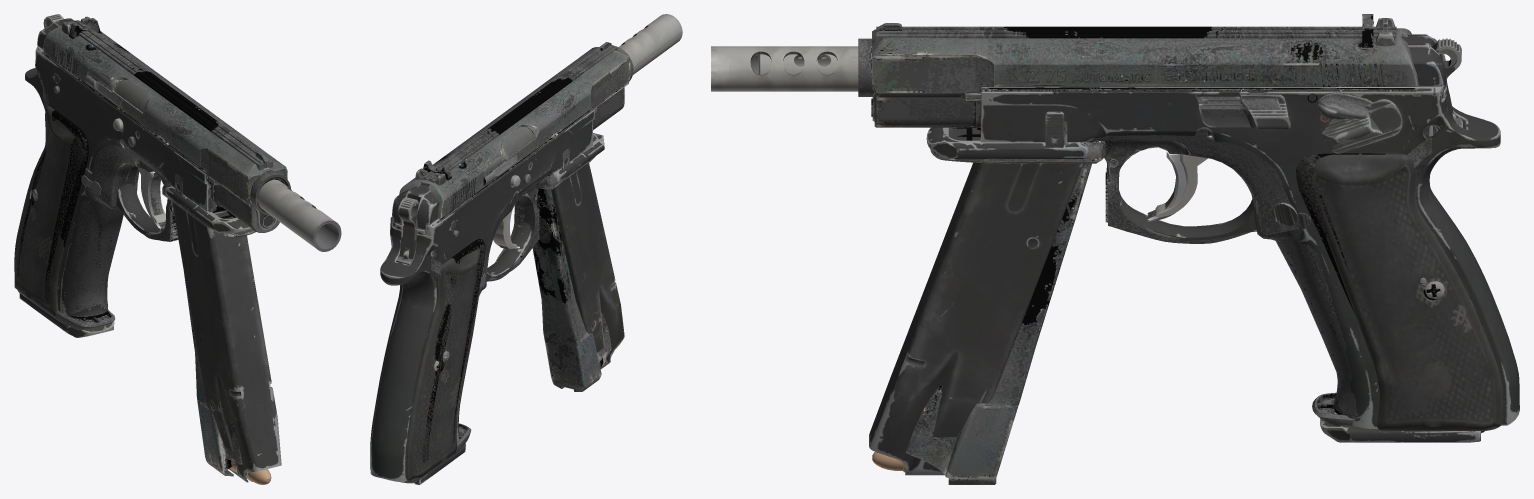
The picture shows the model from 3 angles, left to right: view 1: azimuth 30°, elevation 25°; view 2: azimuth 150°, elevation 25°; view 3: azimuth 270°, elevation 25°; orthographic projection. The views are drawn at different scales.
Visible parts, largest first — view 1: weapons\models\cz75a\weapon_pist_cz75a.vmdl_c.body_hd, weapons\models\cz75a\weapon_pist_cz75a.vmdl_c.body_legacy; view 2: weapons\models\cz75a\weapon_pist_cz75a.vmdl_c.body_hd, weapons\models\cz75a\weapon_pist_cz75a.vmdl_c.body_legacy; view 3: weapons\models\cz75a\weapon_pist_cz75a.vmdl_c.body_hd, weapons\models\cz75a\weapon_pist_cz75a.vmdl_c.body_legacy.
Boxes of the visible parts, box(x1,y1,x2,y2) form: weapons\models\cz75a\weapon_pist_cz75a.vmdl_c.body_hd: box(14, 14, 281, 484); weapons\models\cz75a\weapon_pist_cz75a.vmdl_c.body_legacy: box(16, 18, 341, 476); weapons\models\cz75a\weapon_pist_cz75a.vmdl_c.body_hd: box(370, 46, 624, 484); weapons\models\cz75a\weapon_pist_cz75a.vmdl_c.body_legacy: box(397, 14, 682, 483); weapons\models\cz75a\weapon_pist_cz75a.vmdl_c.body_hd: box(758, 18, 1519, 475); weapons\models\cz75a\weapon_pist_cz75a.vmdl_c.body_legacy: box(711, 14, 1484, 484).
Bounding box in the file's own units: 0.035 × 0.1727 × 0.2769.
2 materials, 2 textured.
